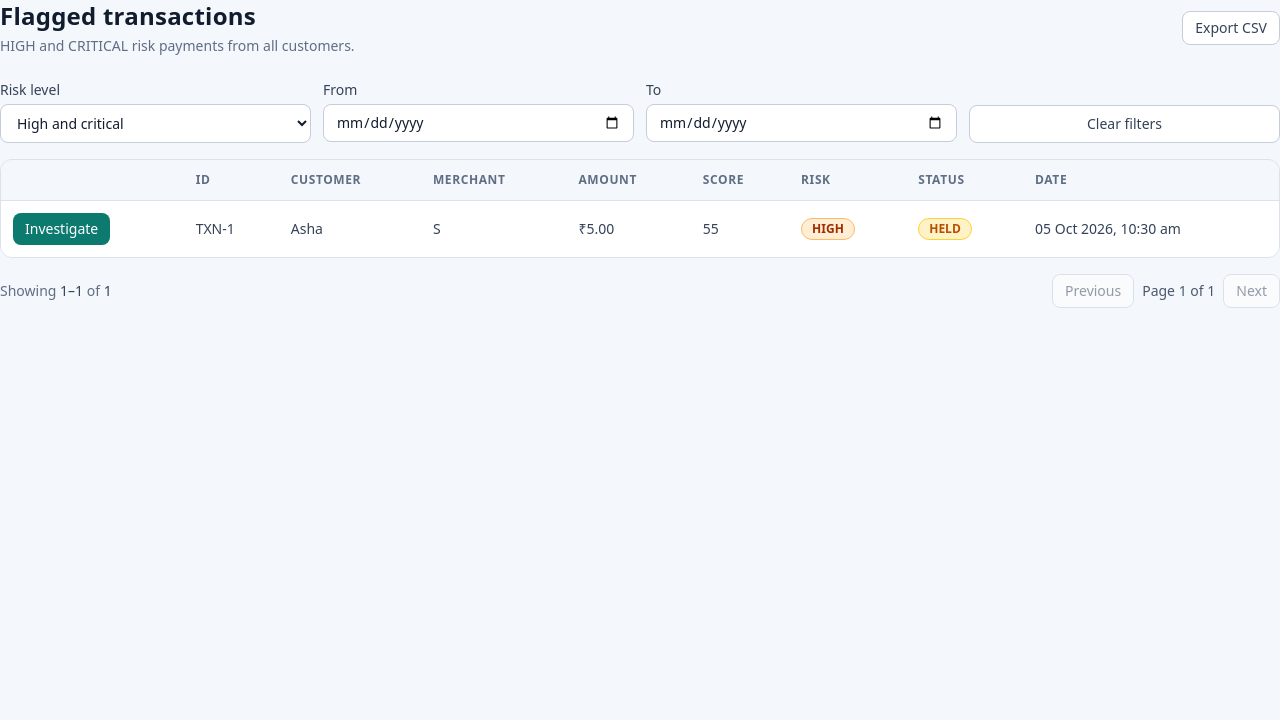
Test case: B-01 in the detail panels › Flagged investigation shows the breakdown
Click the button with aria-label "Investigate TXN-1" at (62, 229), box 13,213 -> 110,245
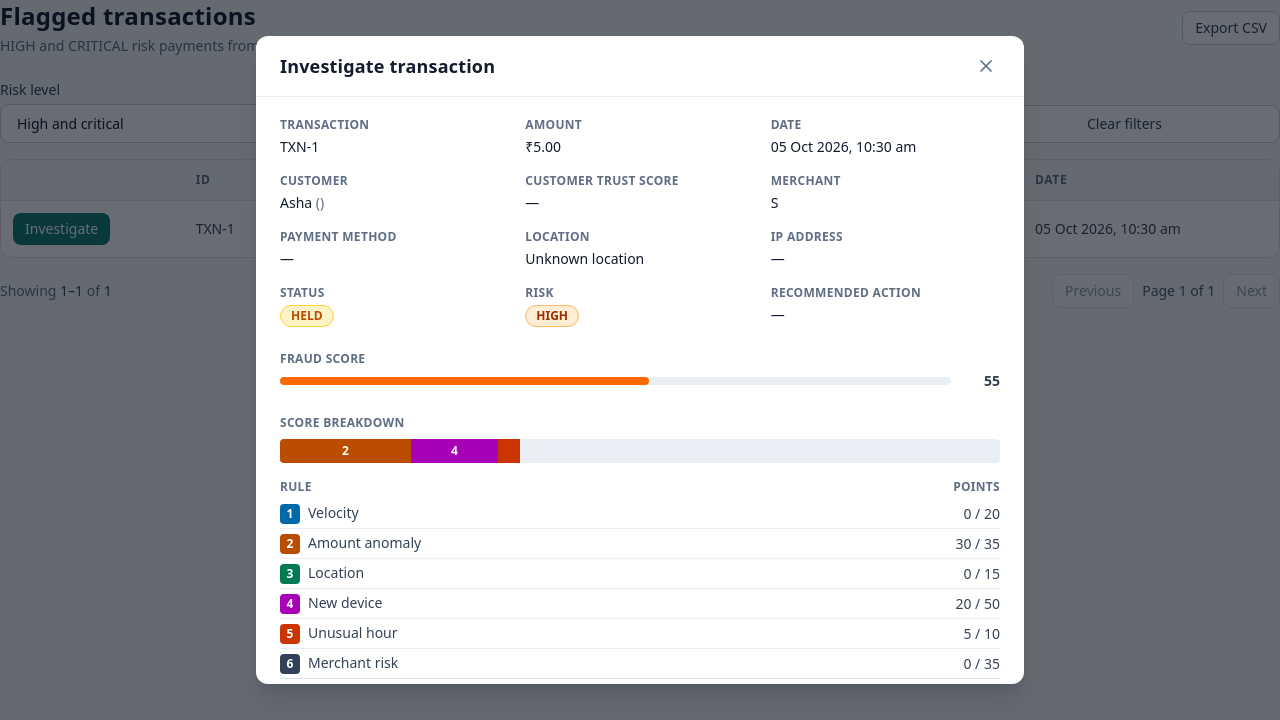
Result: the element with test id "score-breakdown" is shown at 280,415 -> 1000,684
